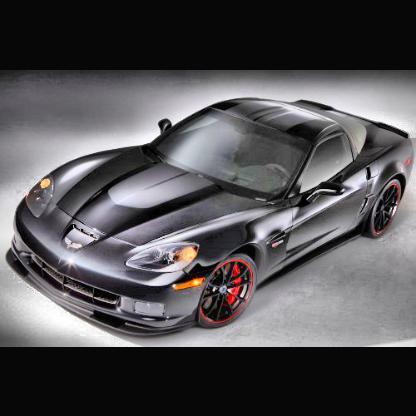Chevrolet Corvette ZR1 2012: (8, 95, 416, 340)
